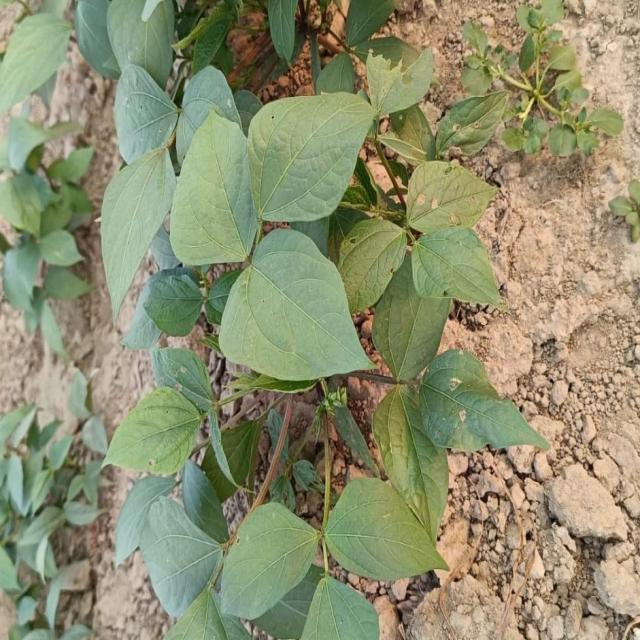plant: (0, 0, 548, 638)
